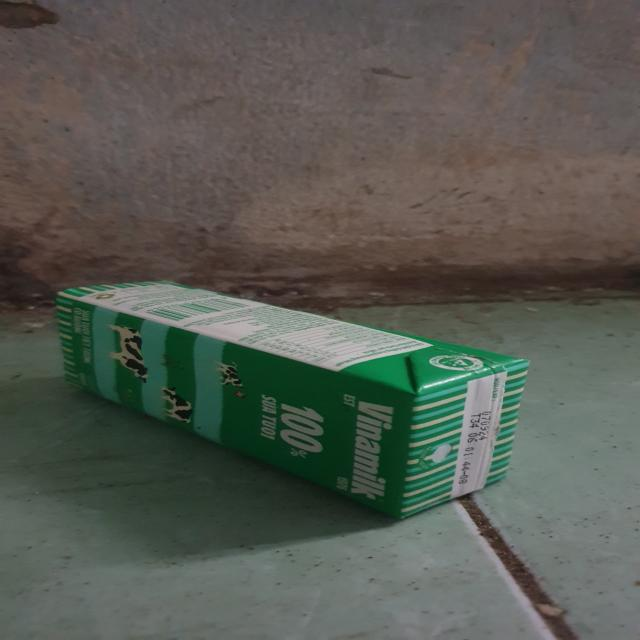Vina: (54, 279, 536, 526)
